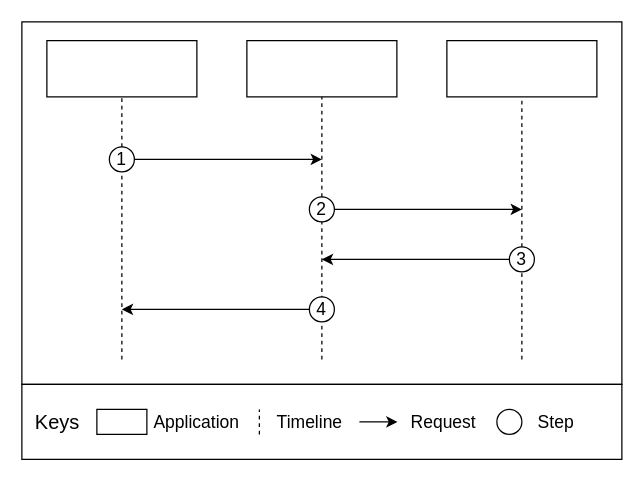
This 644x481 diagram has some shape labels left out. The shapes that lost their labels are listed below. From the top down, each one's centre as x and y in pixels, then its label:
[121,68]: Client Application
[321,68]: Application Server
[521,68]: Authorization Server
